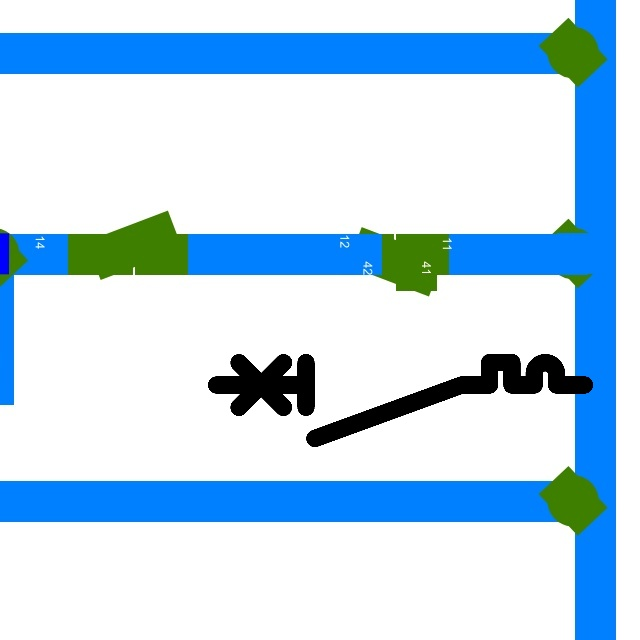interruptor_termomagnetico: (207, 353, 594, 447)
